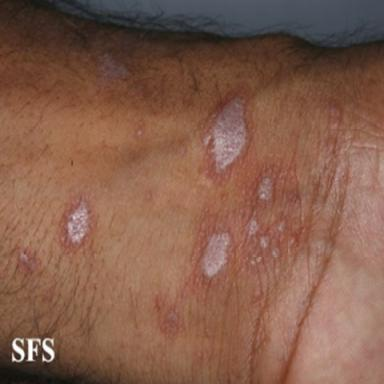lichen: (198, 86, 252, 189), (191, 208, 235, 292), (66, 199, 90, 245), (97, 53, 130, 82), (257, 177, 273, 200), (19, 252, 36, 270), (248, 220, 259, 236), (251, 253, 263, 265), (260, 236, 269, 249), (271, 247, 280, 259), (277, 220, 286, 231)
